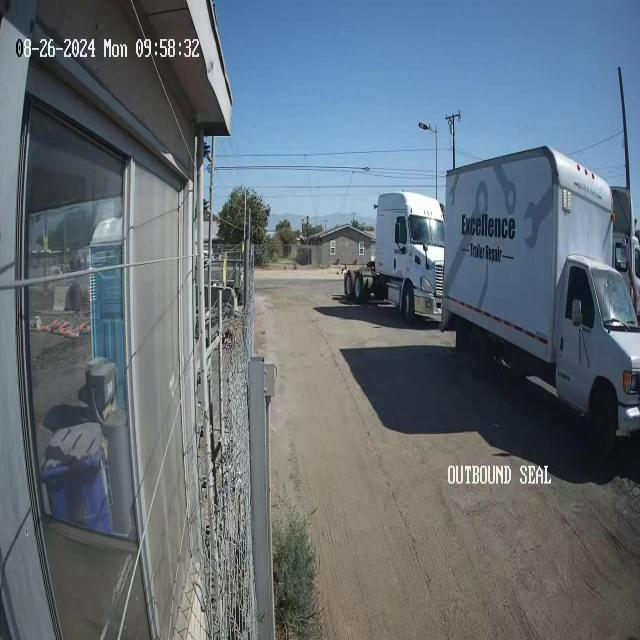TRUCK_IN: (440, 144, 639, 456)
